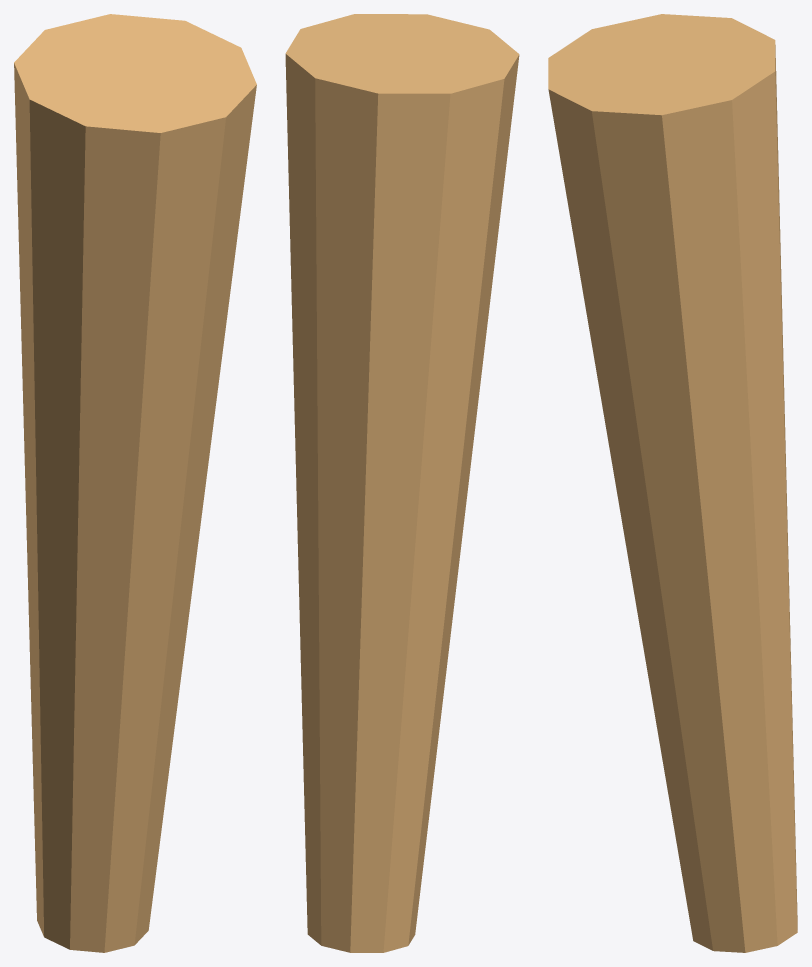
Rendered from player_leg_right_3.obj.
3 renders of one model, left to right at view 1: azimuth 30°, elevation 25°; view 2: azimuth 150°, elevation 25°; view 3: azimuth 270°, elevation 25°, orthographic. The views are drawn at different scales.
Visible parts, largest first — view 1: player:leg_right_3; view 2: player:leg_right_3; view 3: player:leg_right_3.
Boxes of the visible parts, <box> form: player:leg_right_3: <box>14,14,256,952</box>; player:leg_right_3: <box>285,14,519,952</box>; player:leg_right_3: <box>548,14,797,952</box>.
Size of the model in its own units: 0.2 by 0.8091 by 0.208.
